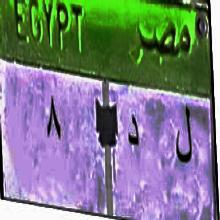8: (43, 90, 63, 151)
daal: (124, 107, 140, 155)
laam: (173, 98, 194, 172)
